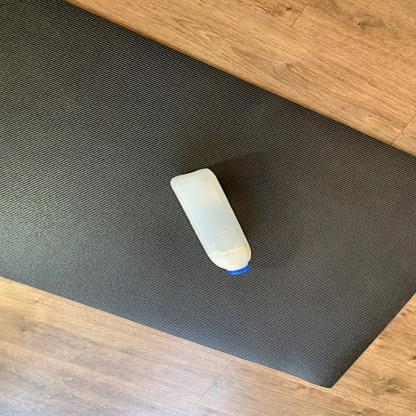trash: (168, 168, 257, 279)
